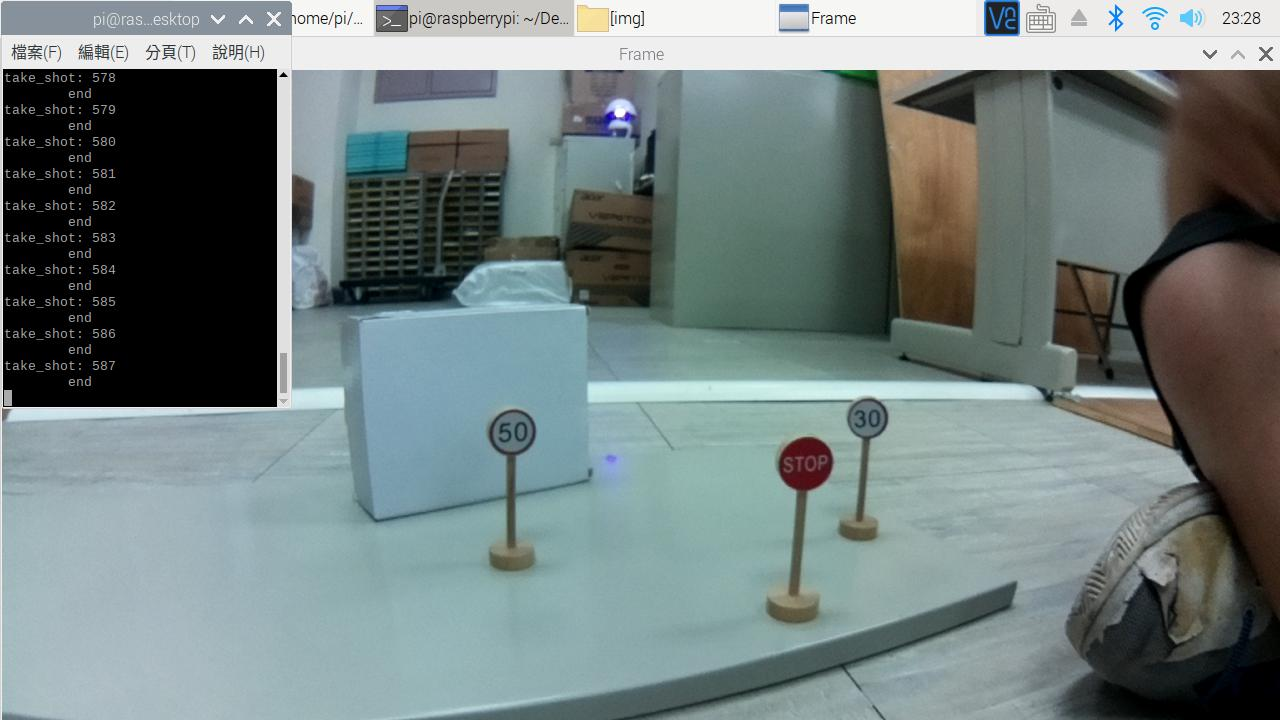Speed30: (840, 386, 904, 443)
Speed50: (486, 400, 542, 464)
Stop: (764, 429, 839, 504)
